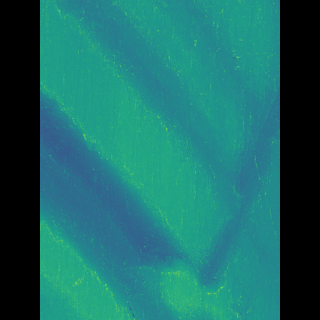Loch: (69, 76, 217, 319), (79, 0, 193, 142)
